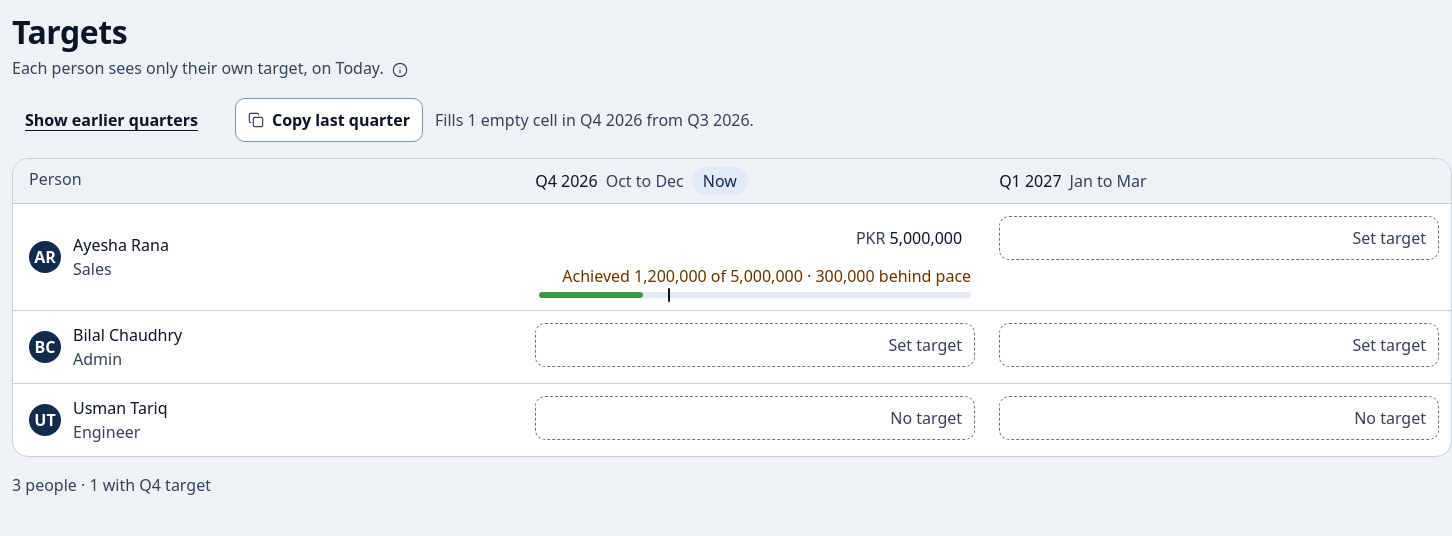
Test case: Targets (M06) › shows the database refusal as a plain sentence
Expected: the text "Ayesha Rana" is shown, [73,233,169,257]
Click the 2nd button "Set target" at point(925, 345), box [535,323,975,367]
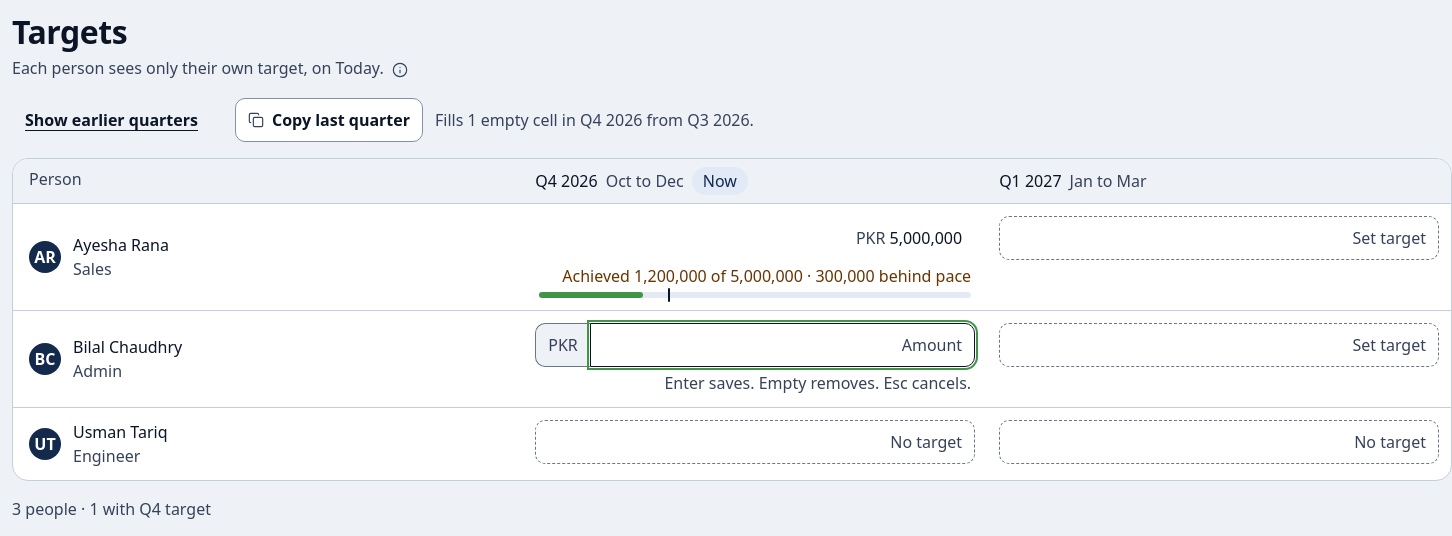
Type keys "100{Enter}"
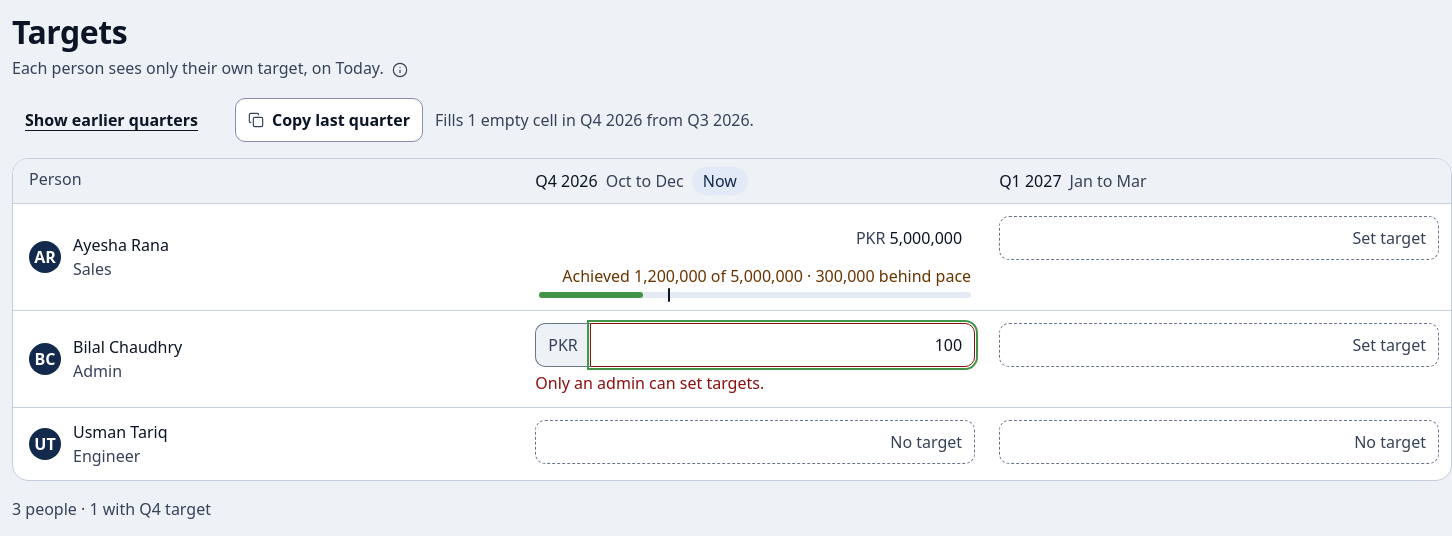
Now the message reads "Only an admin can set targets.", box [535,372,764,394]
